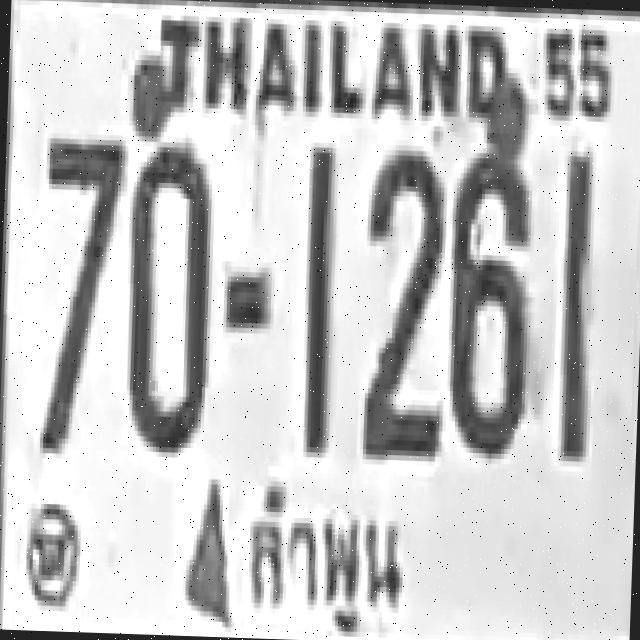0: (123, 140, 212, 448)
1: (554, 150, 596, 457), (297, 144, 336, 450)
2: (356, 146, 446, 454)
6: (444, 146, 534, 454)
7: (36, 133, 122, 450), (39, 132, 122, 348)
Lamphun: (234, 465, 411, 640)
